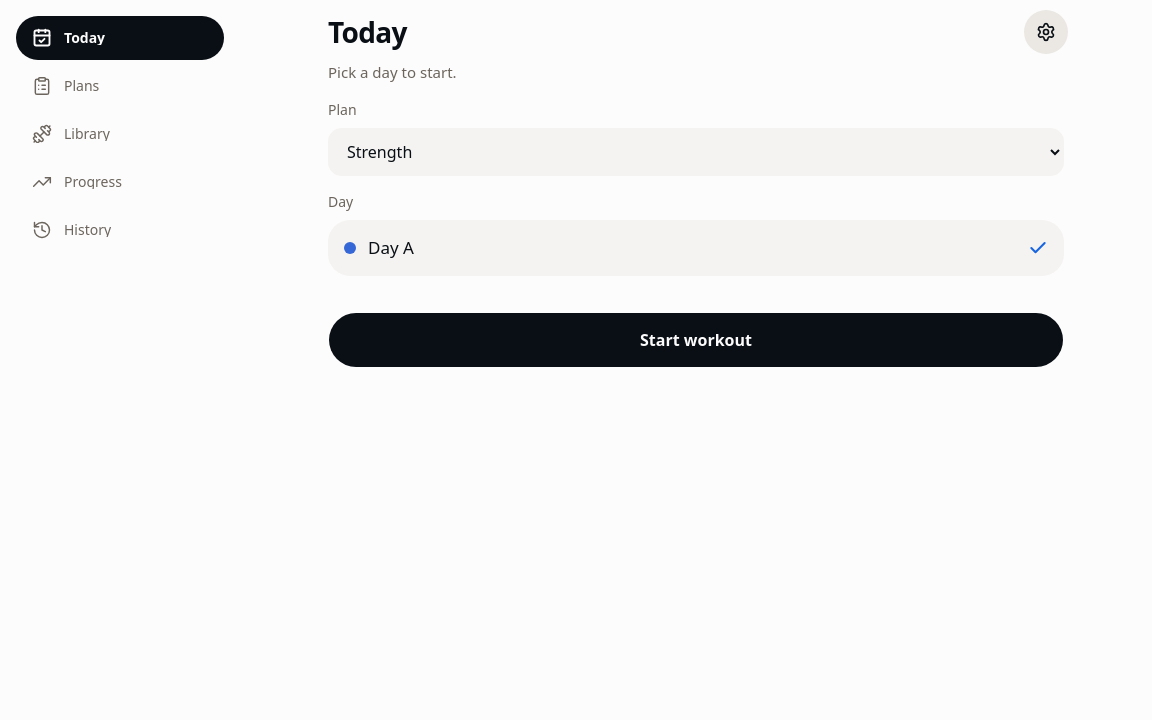
Test: editing weight with a comma decimal persists
Step 1. Click the button "Start workout" → [696, 340], box [328,312,1064,368]
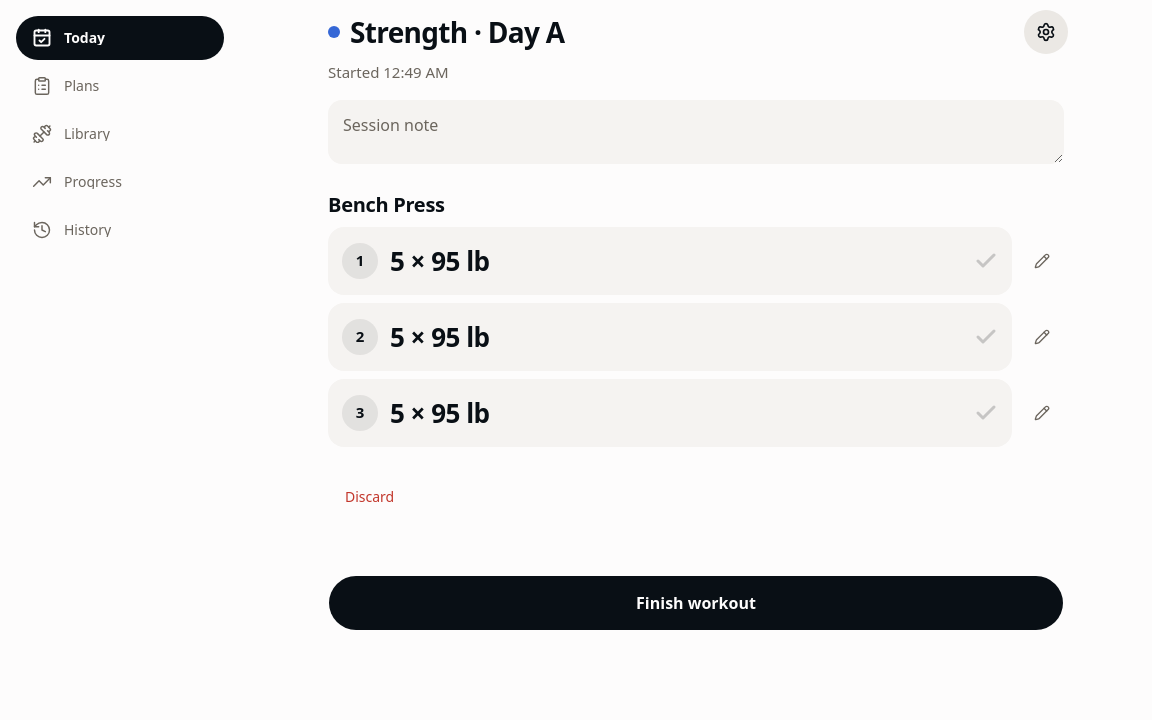
Step 2. Click the button named "Edit set 1" → [1042, 260], box [1020,238,1064,282]
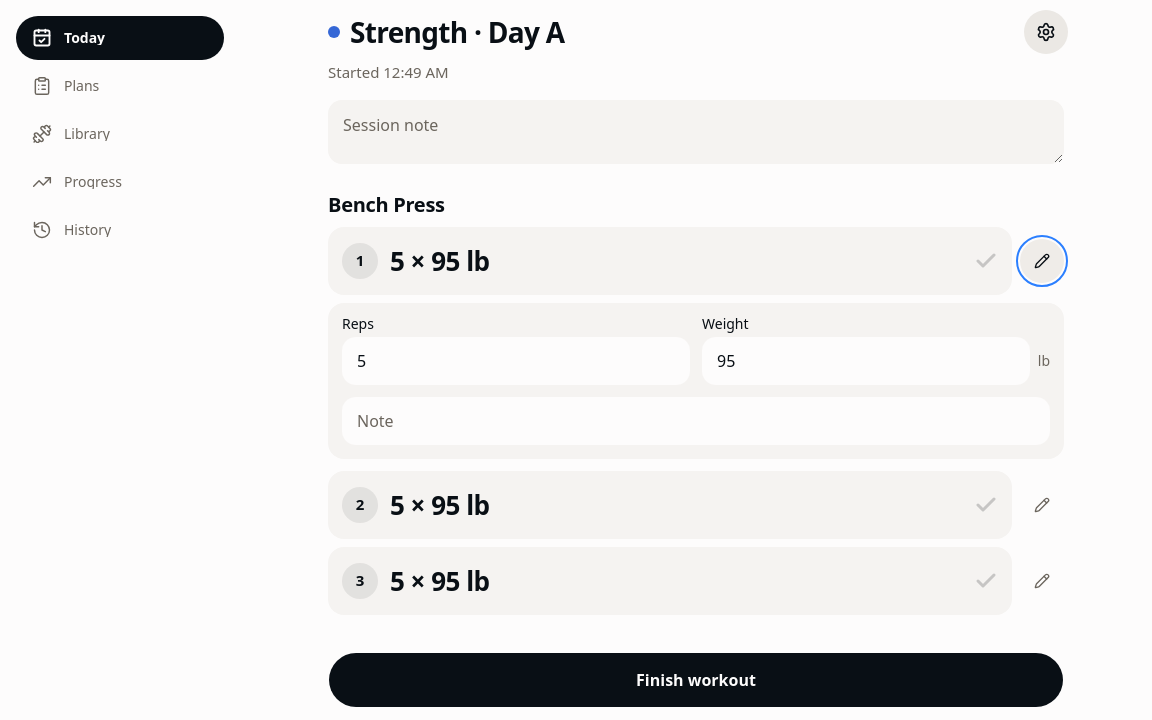
Step 3. Replace the text in the field labelled "Weight" with "62,5" → [866, 360], box [702,336,1030,384]
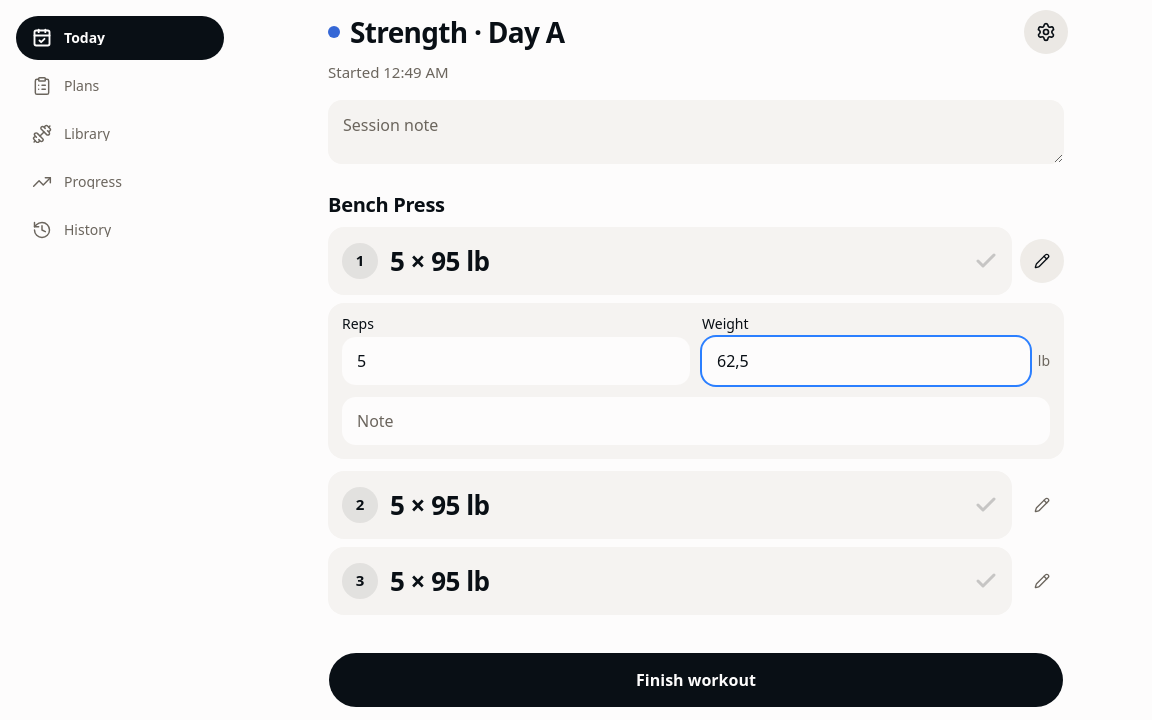
Step 4. Press Tab
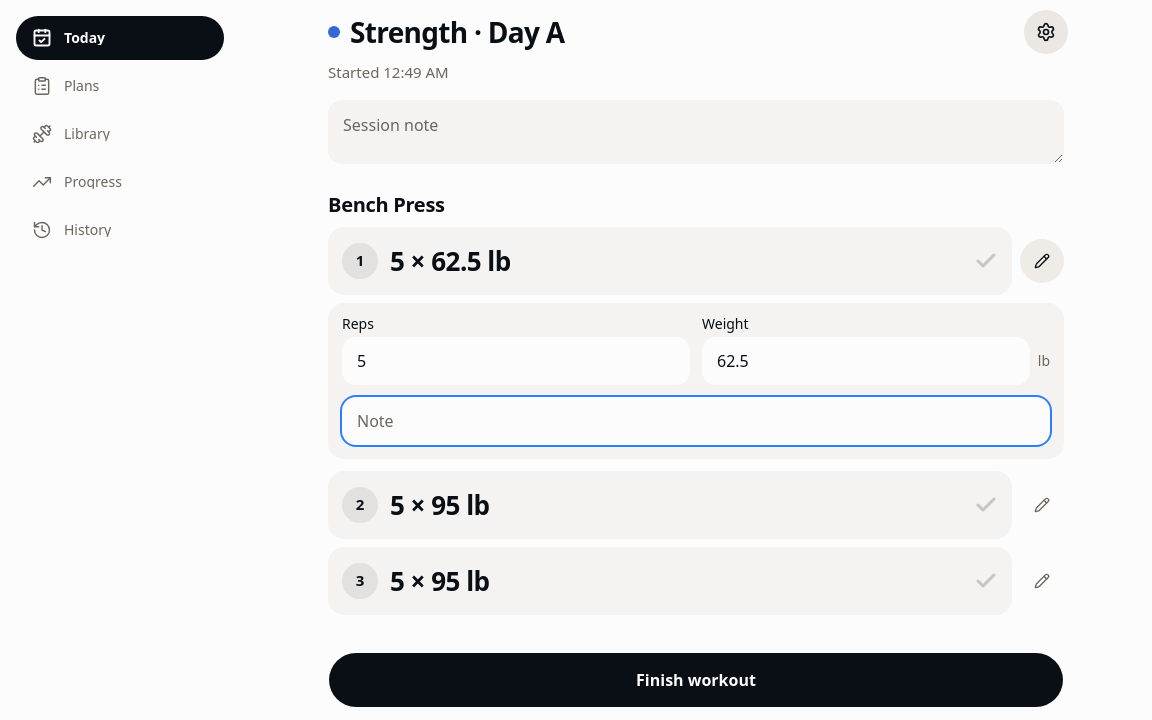
Result: the text "5 × 62.5 lb" is shown at [390,242,511,278]
